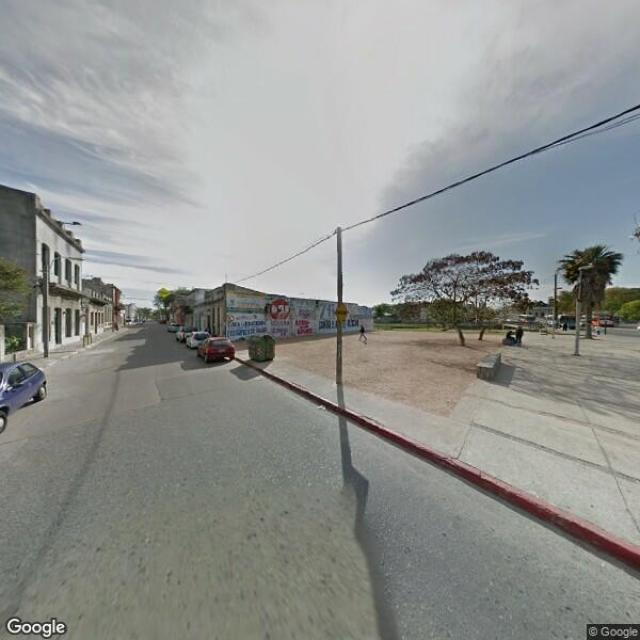garbage container: (240, 332, 282, 373)
